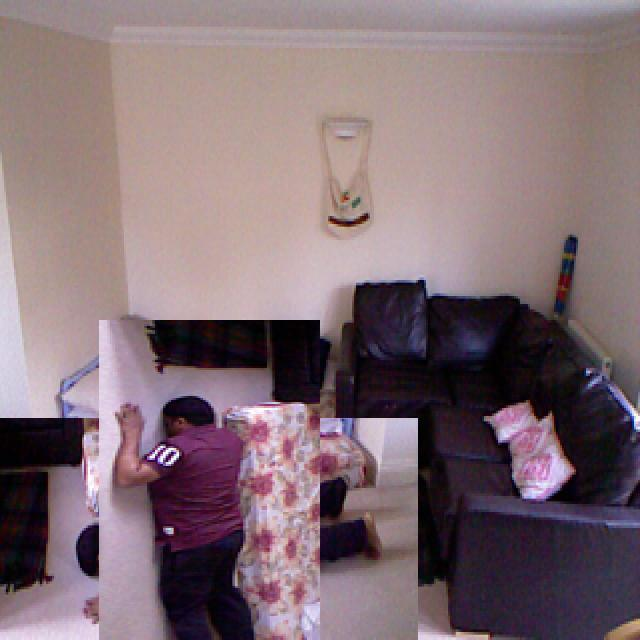Fall: (91, 367, 308, 640)
